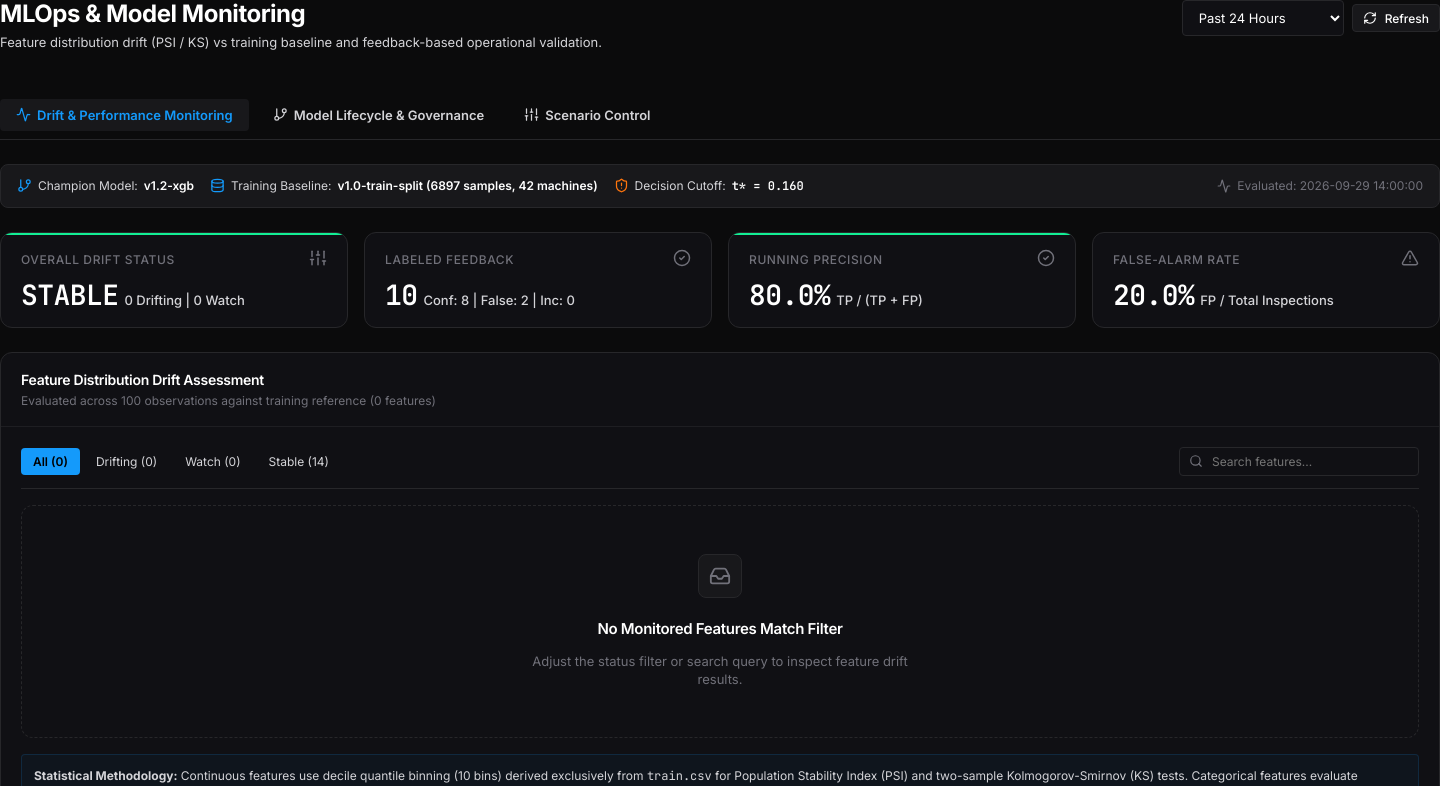
Test case: MLOps Page & Scenario-Control UI (T-058) › renders 3 MLOps navigation tabs and switches to Scenario Control
Expected: the heading "MLOps & Model Monitoring" is shown, [0, 0, 305, 29]
Expected: the button "Drift & Performance Monitoring" is shown, [0, 99, 249, 131]
Note: Click Scenario Control tab
Click the button "Scenario Control" at (587, 115), box [508, 99, 666, 131]
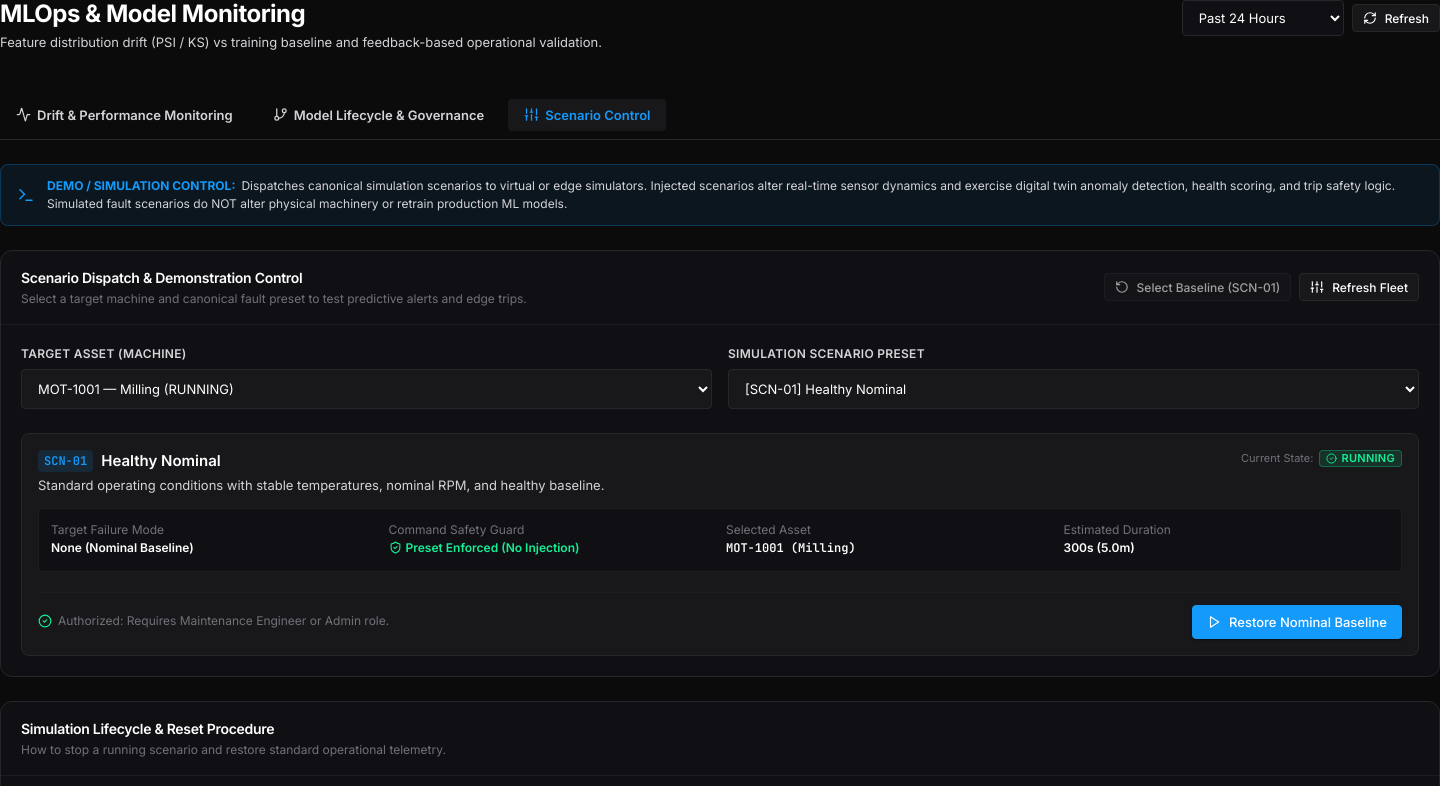
Now the heading "Scenario Dispatch & Demonstration Control" is shown, box [21, 269, 302, 286]
Now the text "DEMO / SIMULATION CONTROL:" is shown, box [47, 178, 235, 193]
